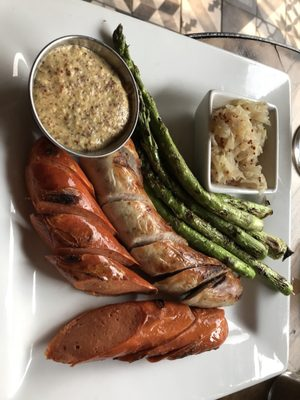sushi: (26, 34, 138, 159)
